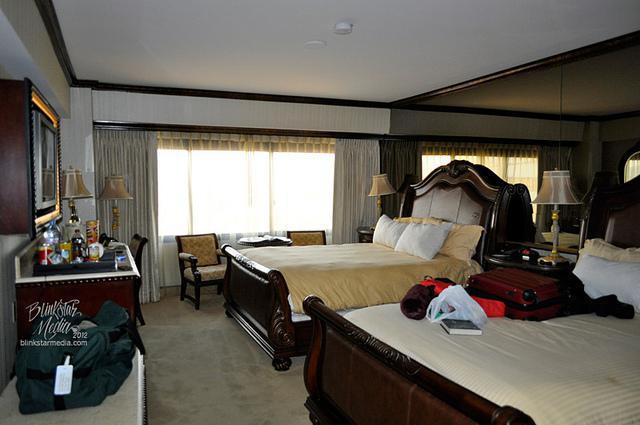tv: (28, 101, 63, 214)
